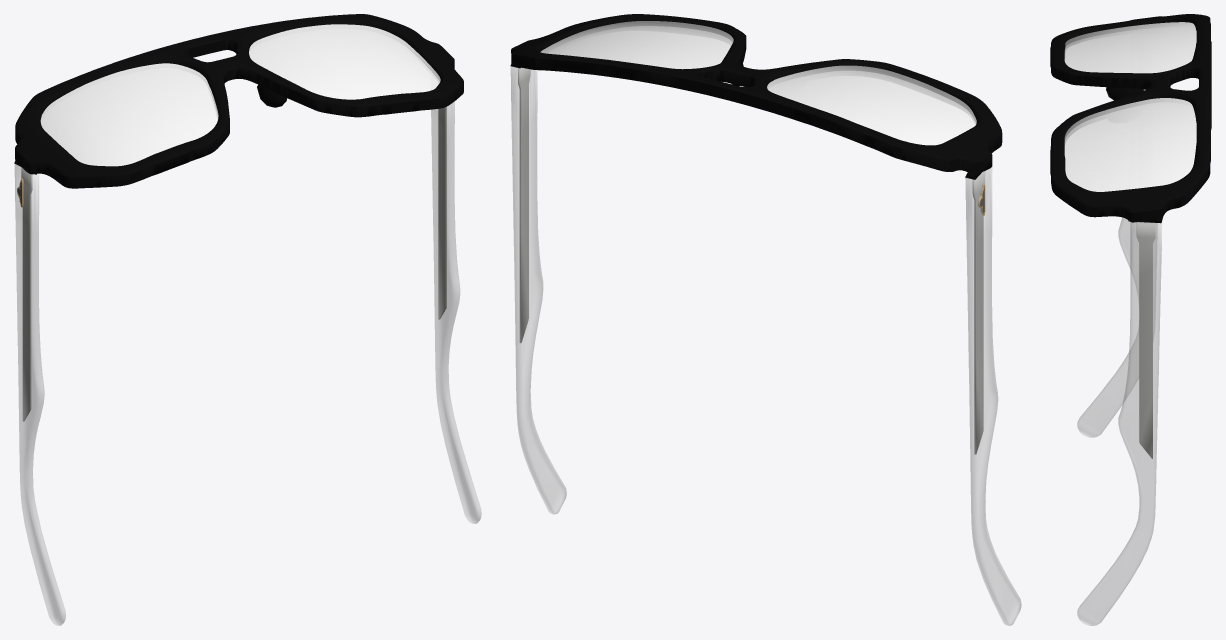
3 renders of one model, left to right at view 1: azimuth 30°, elevation 25°; view 2: azimuth 150°, elevation 25°; view 3: azimuth 270°, elevation 25°, orthographic. The views are drawn at different scales.
Visible parts, largest first — view 1: F08 front, F08 lens 0, F08 lens 1, F08 temple 0, F08 temple 1, F08 temple 0 core, F08 temple 1 core; view 2: F08 front, F08 temple 0, F08 temple 1, F08 lens 0, F08 lens 1, F08 temple 1 core, F08 temple 0 core; view 3: F08 front, F08 temple 1, F08 lens 1, F08 lens 0, F08 temple 0, F08 temple 1 core, F08 pad -1.
Part boxes in pixels (left/top/right/bottom): F08 front: left=15, top=14, right=463, bottom=188; F08 lens 0: left=40, top=63, right=218, bottom=166; F08 lens 1: left=249, top=24, right=440, bottom=99; F08 temple 0: left=14, top=164, right=65, bottom=625; F08 temple 1: left=431, top=101, right=481, bottom=523; F08 temple 0 core: left=21, top=167, right=32, bottom=421; F08 temple 1 core: left=438, top=106, right=446, bottom=319; F08 front: left=511, top=14, right=1002, bottom=174; F08 temple 0: left=965, top=167, right=1021, bottom=625; F08 temple 1: left=510, top=66, right=566, bottom=514; F08 lens 0: left=767, top=65, right=976, bottom=145; F08 lens 1: left=540, top=21, right=733, bottom=69; F08 temple 1 core: left=518, top=67, right=530, bottom=343; F08 temple 0 core: left=972, top=171, right=985, bottom=454; F08 front: left=1050, top=14, right=1211, bottom=222; F08 temple 1: left=1077, top=221, right=1162, bottom=625; F08 lens 1: left=1064, top=98, right=1196, bottom=191; F08 lens 0: left=1064, top=22, right=1196, bottom=73; F08 temple 0: left=1077, top=89, right=1157, bottom=437; F08 temple 1 core: left=1136, top=222, right=1155, bottom=458; F08 pad -1: left=1106, top=87, right=1143, bottom=100.
Size of the model in its own units: 0.1536 by 0.1685 by 0.054.
6 materials, 1 textured.
